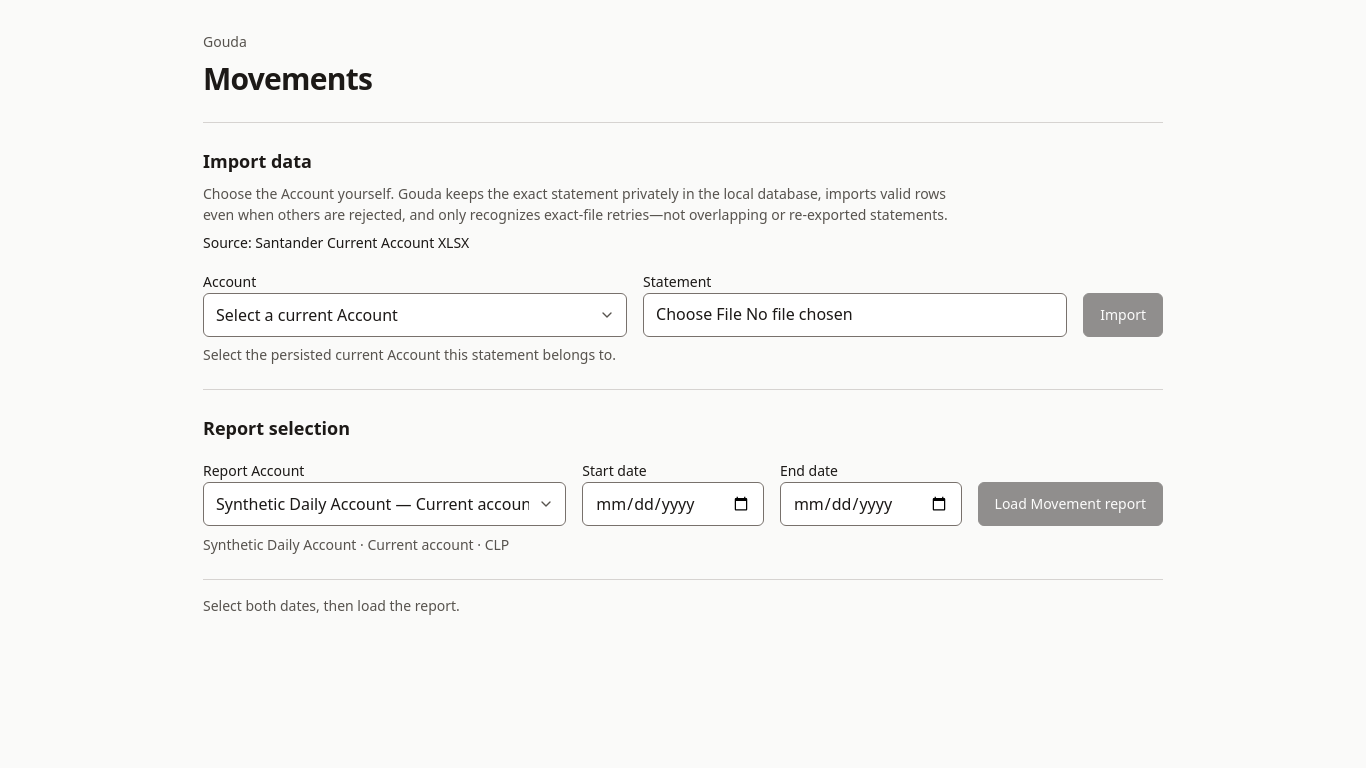
Test: Gouda read-only report flow › renders an empty canonical Movement result
The image size is (1366, 768).
expect the dropdown labelled "Report Account" is shown: met, box [203,482,566,526]
Type "2026-04-01" into the date field labelled "Start date" at (673, 504), box [582,482,764,526]
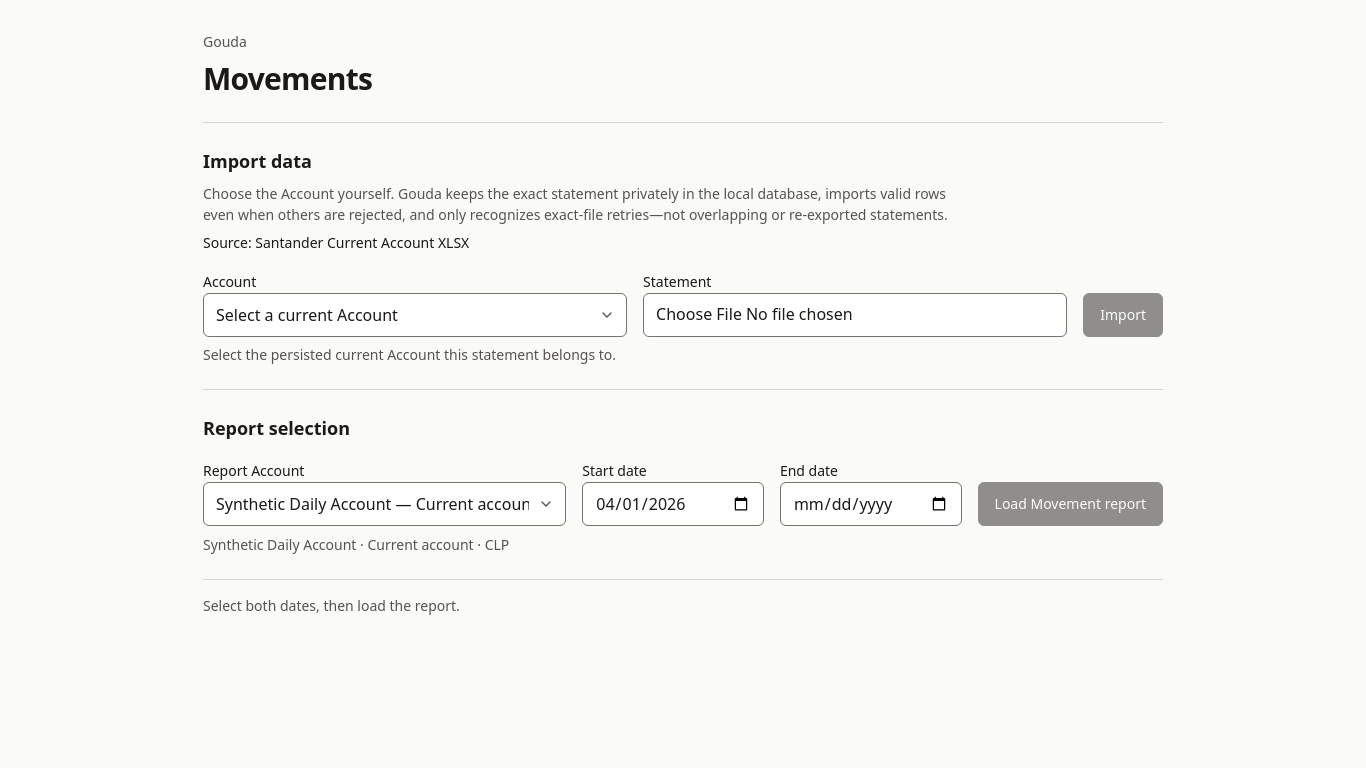
Type "2026-04-30" into the date field labelled "End date" at (871, 504), box [780,482,962,526]
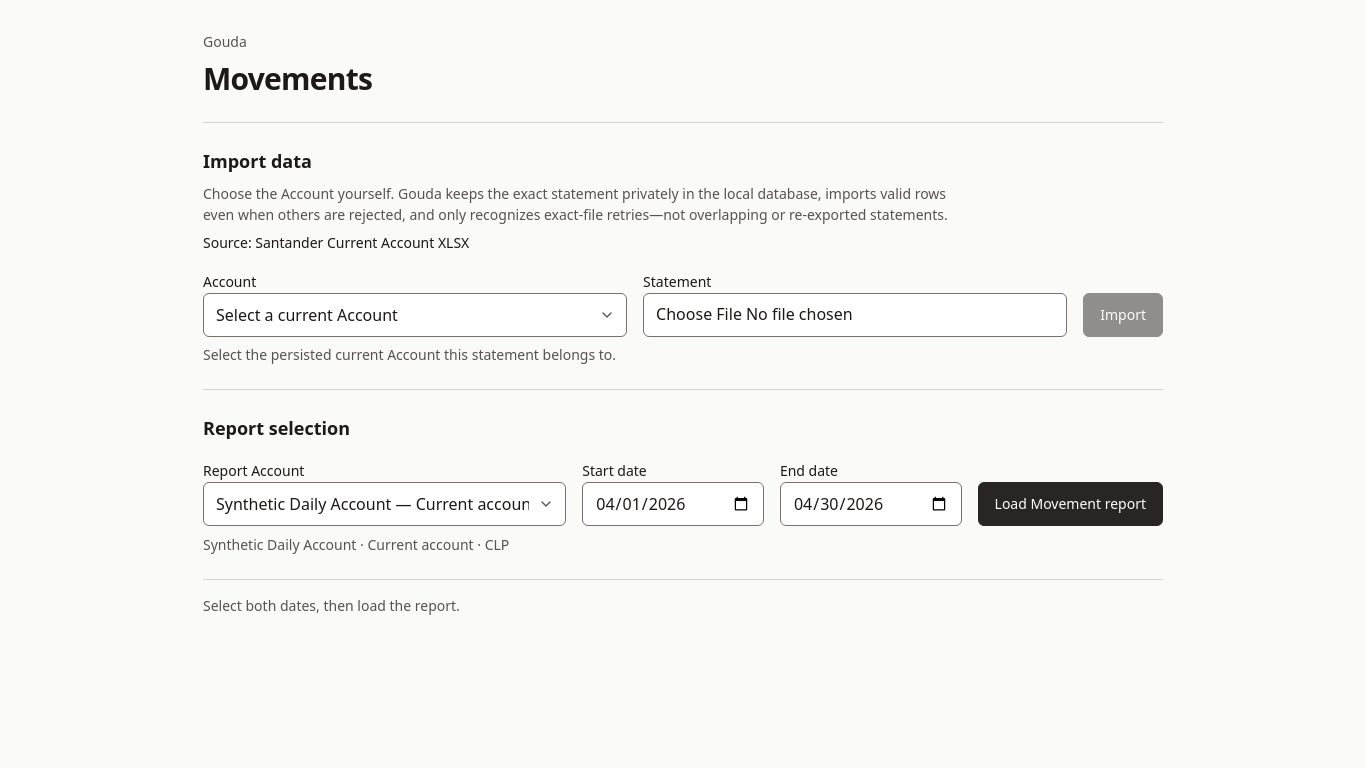
Click the button "Load Movement report" at (1070, 504), box [978,482,1163,526]
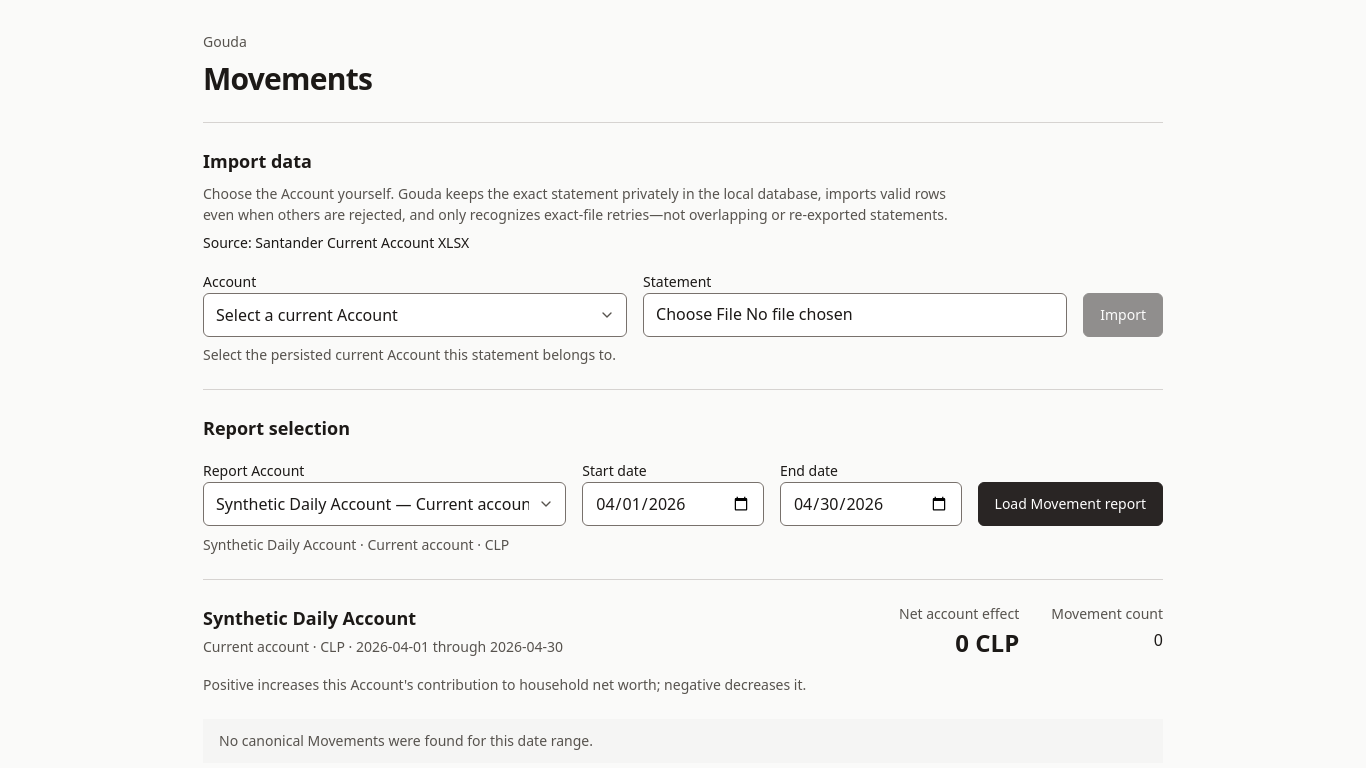
expect the text "No canonical Movements were found for this date range." is shown: met, box [203,718,1163,762]
expect the text "0 CLP" is shown: met, box [955,626,1019,658]
